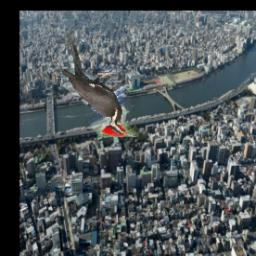Woodpecker: (60, 34, 139, 138)
